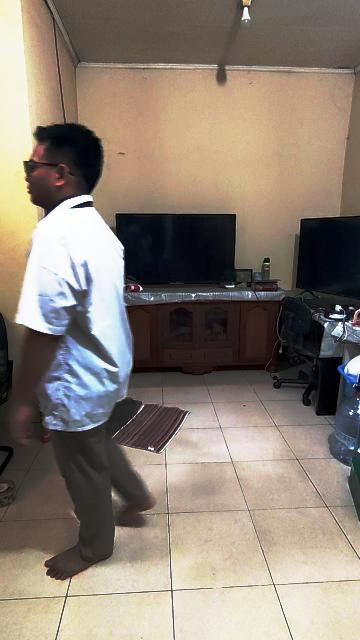berjalan: (7, 119, 156, 587)
